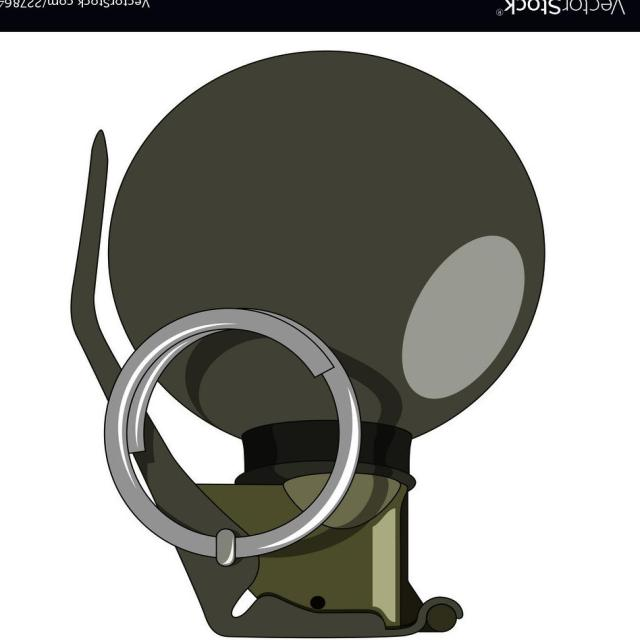grenade: (72, 52, 546, 640)
